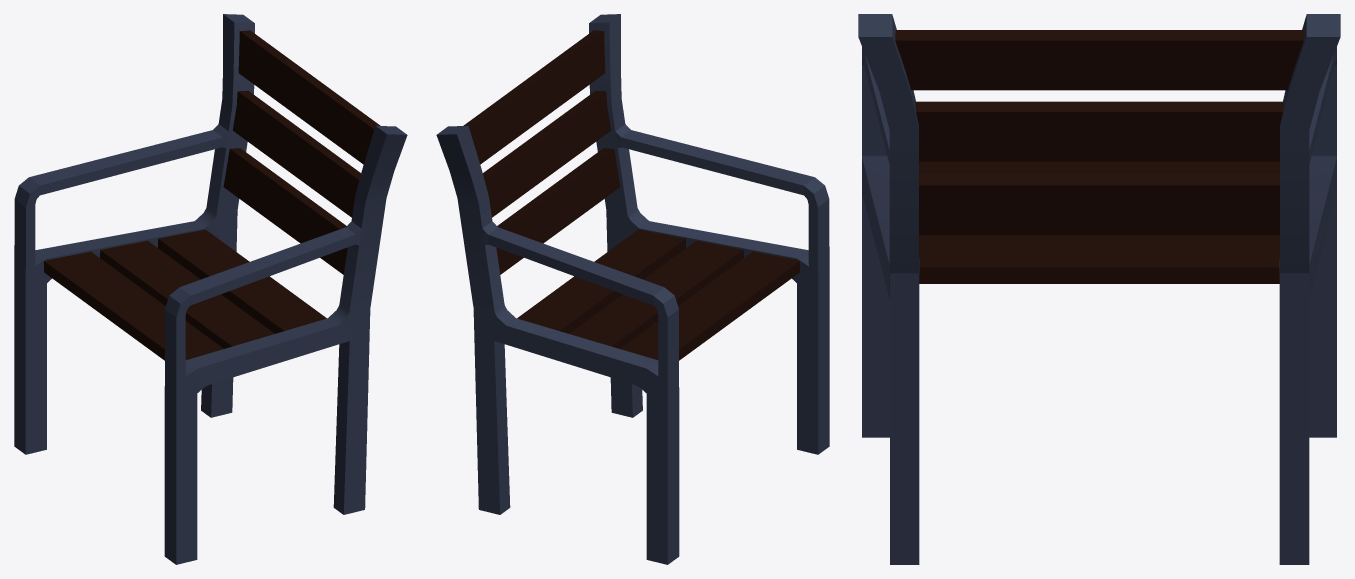
The model's file is Bench.FBX.
The picture shows the model from 3 angles, left to right: view 1: azimuth 30°, elevation 25°; view 2: azimuth 150°, elevation 25°; view 3: azimuth 270°, elevation 25°; orthographic projection. The views are drawn at different scales.
Parts seen in each view (by area): view 1: Box033; view 2: Box033; view 3: Box033.
Part boxes in pixels (bbox=[...]): Box033: bbox=[14, 14, 407, 564]; Box033: bbox=[436, 14, 829, 564]; Box033: bbox=[858, 14, 1340, 564].
Bounding box in the file's own units: 65.4 × 103 × 80.81.
